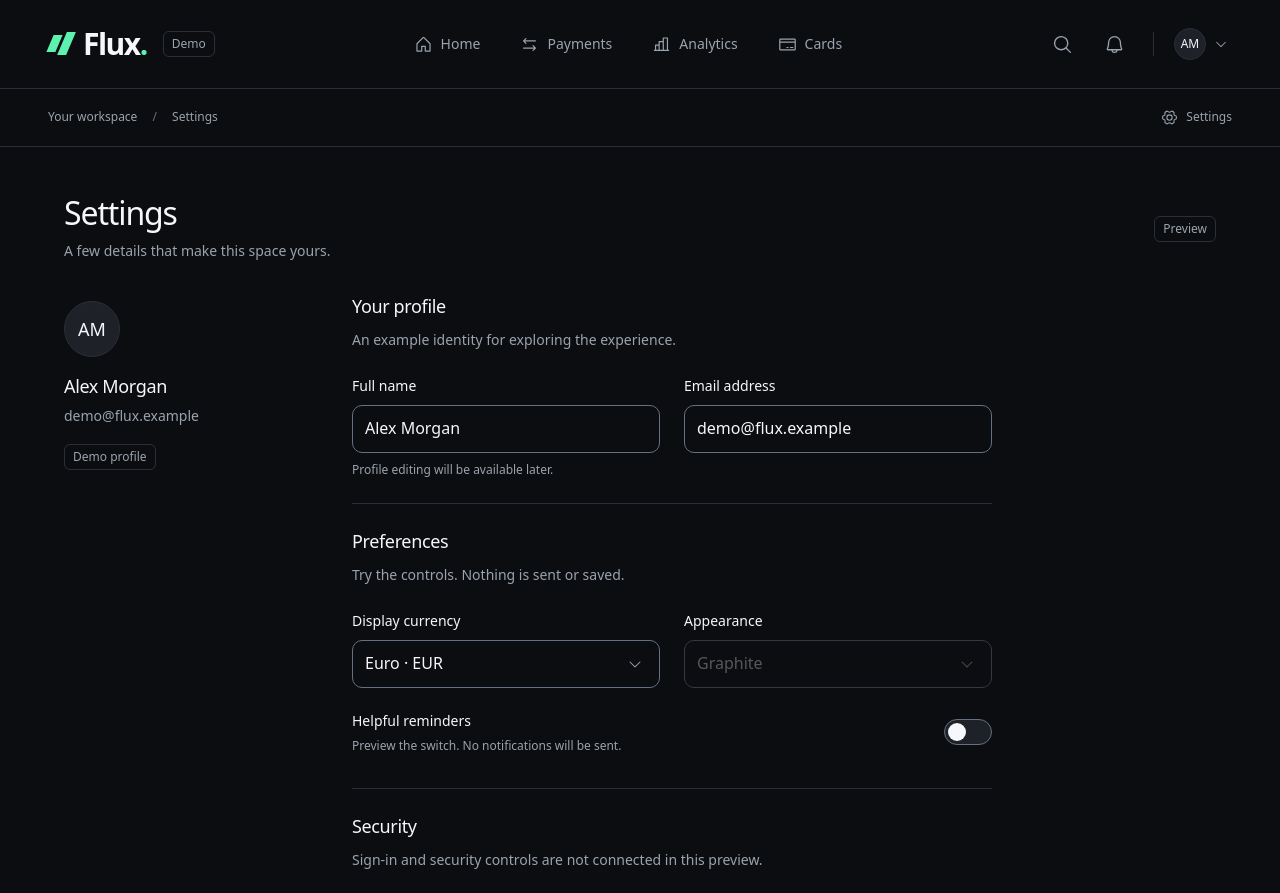
Scenario: settings confirmation cancels safely and resets only preview controls
This screenshot has width=1280, height=893.
Expected: the heading "Settings" is shown, [64,191,177,234]
Select "US Dollar · USD" in the dropdown labelled "Display currency". click: (506, 664)
box: [353,641,659,687]
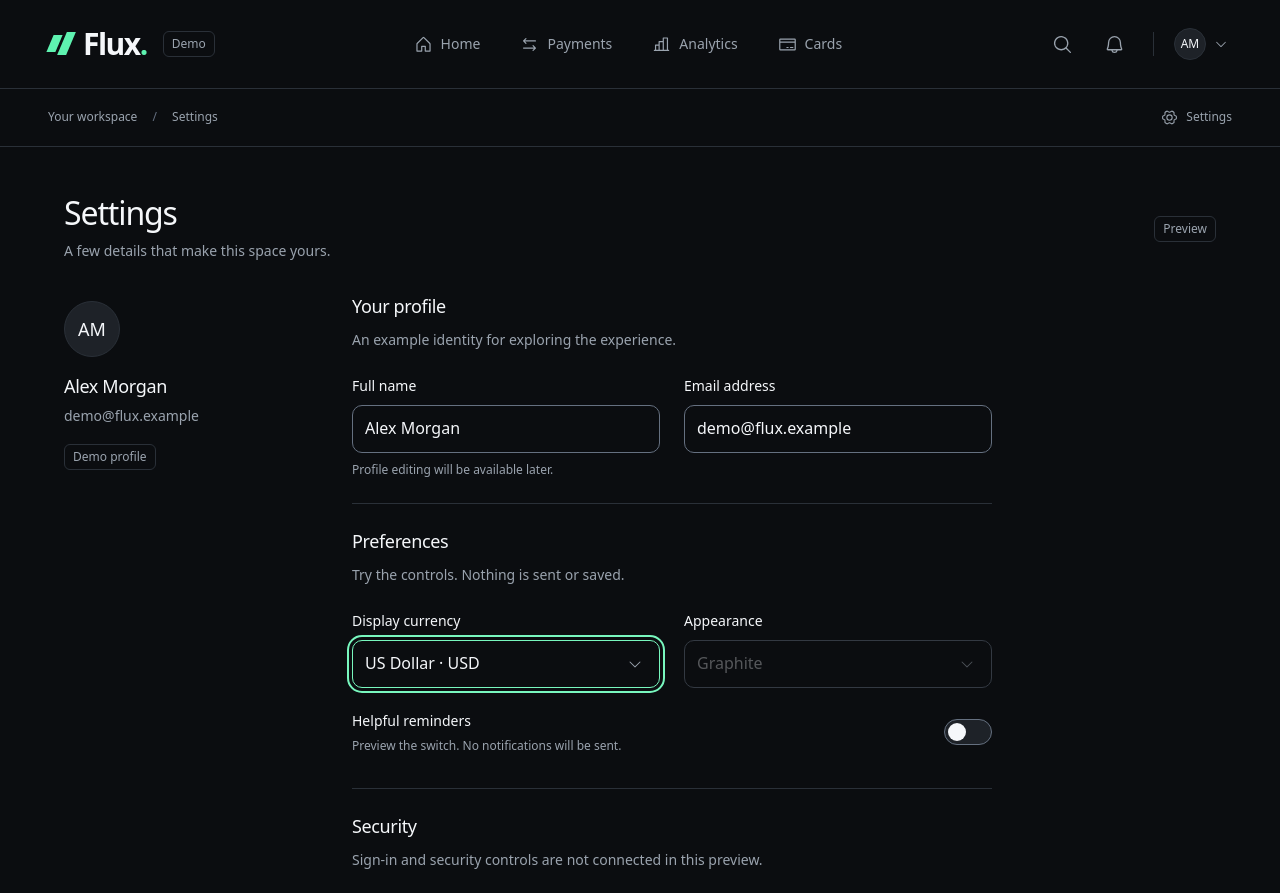
Click the switch named "Helpful reminders" in the row of "Helpful reminders". click: (968, 732)
box: [944,710,992,754]
(page scrolled)
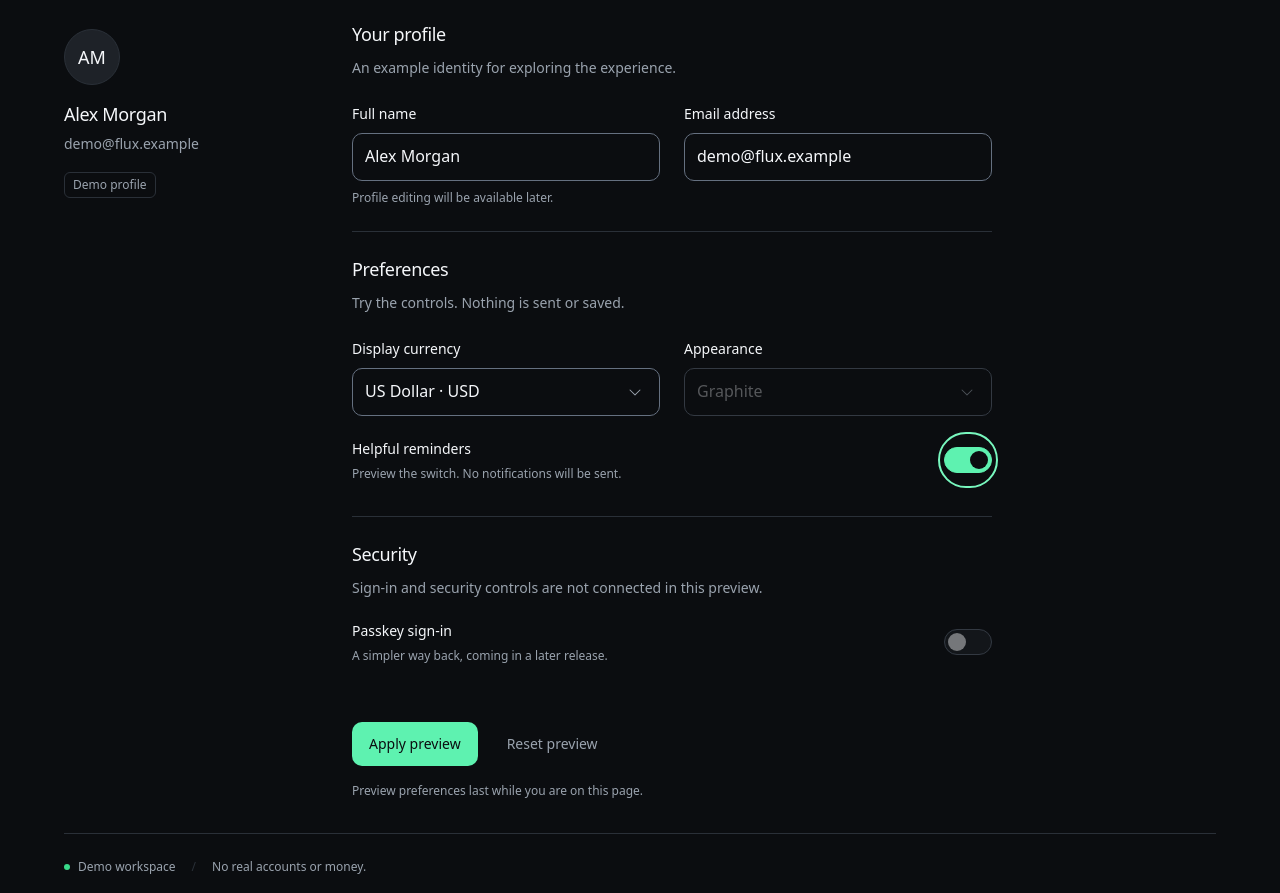
Click the button "Reset preview". click: (552, 744)
box: [490,722,615,766]
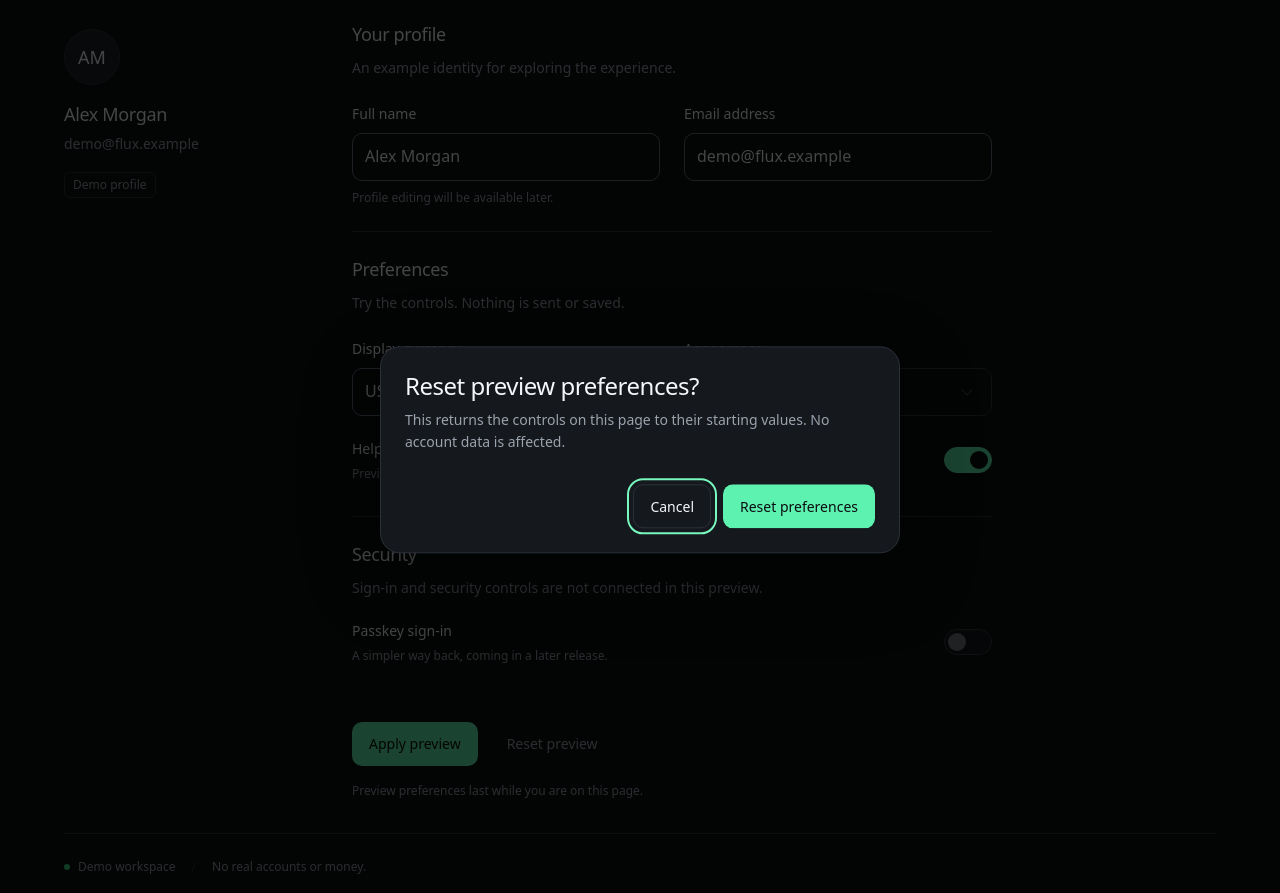
Click the button "Cancel". click: (672, 507)
box: [633,485,711,529]
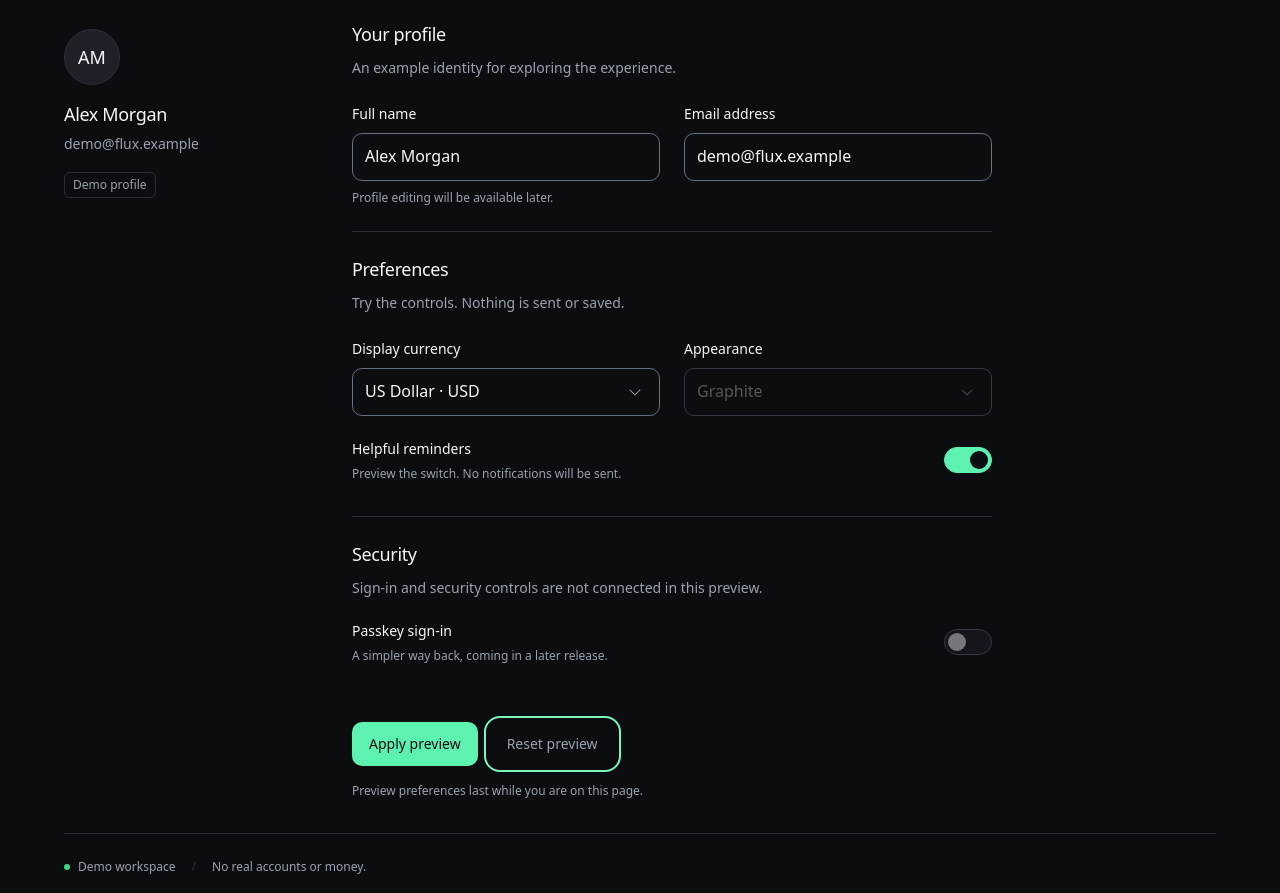
Click the button "Reset preview". click: (552, 744)
box: [490,722,615,766]
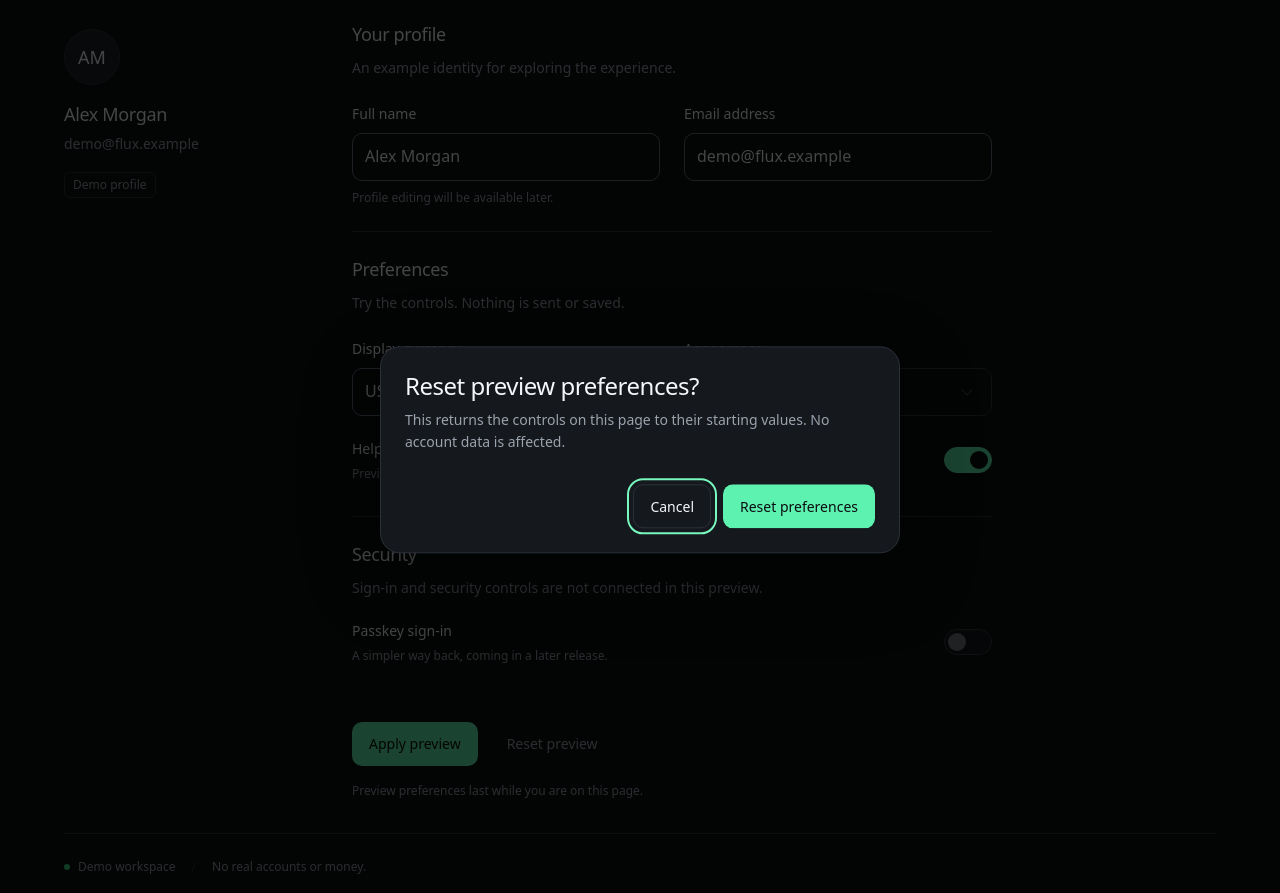
Click the button "Reset preferences". click: (799, 507)
box: [723,485,875,529]
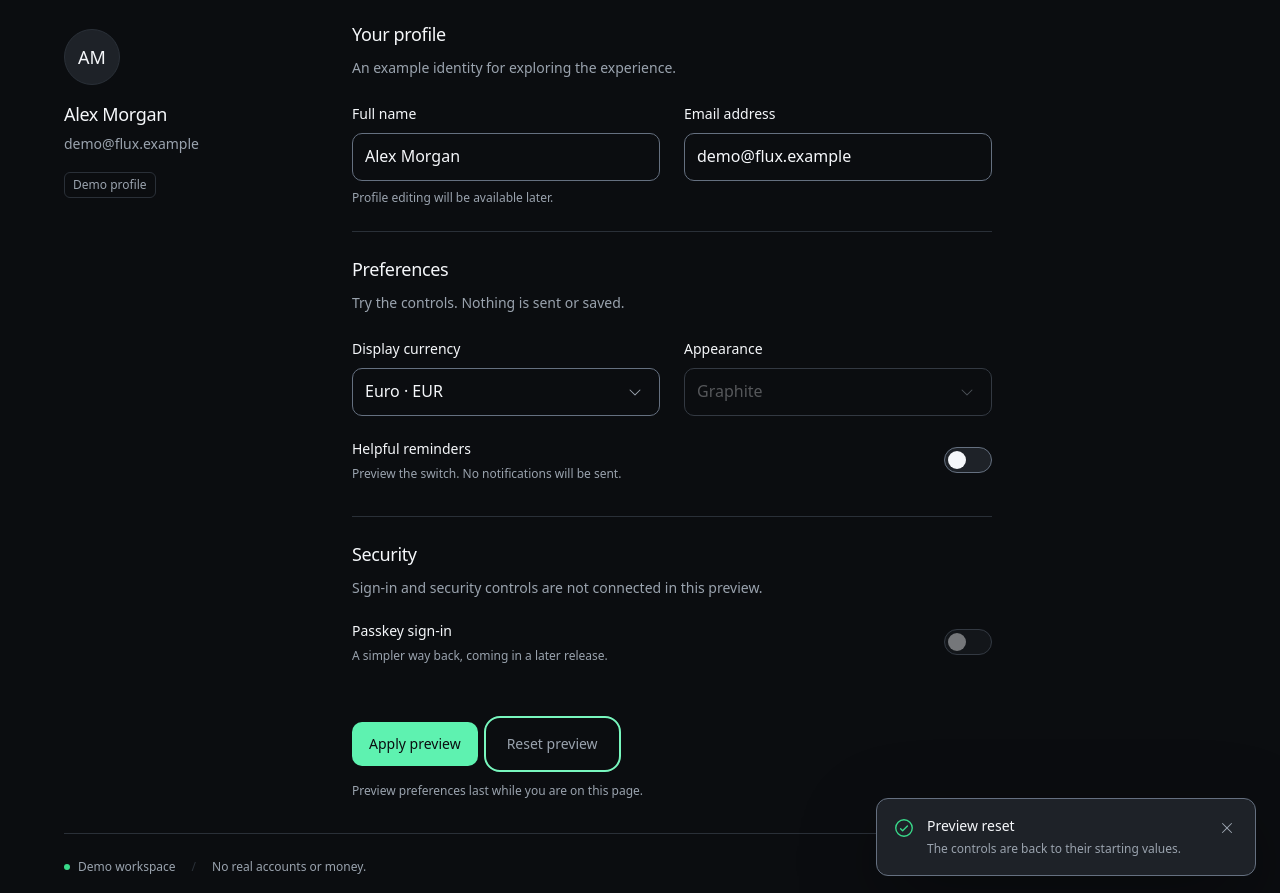
Expected: the switch named "Helpful reminders" in the row of "Helpful reminders" is not checked, [944,438,992,482]
Expected: the text "Preview reset" is shown, [927,816,1015,835]
